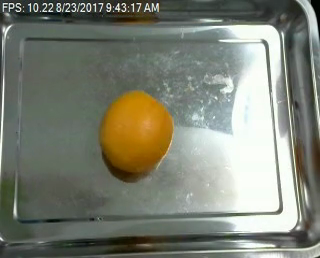Orange: (100, 90, 173, 174)
